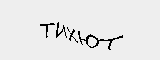И: (53, 18, 67, 40)
Т: (96, 34, 125, 52), (38, 18, 55, 39)
Х: (64, 26, 80, 47)
Ю: (76, 31, 99, 51)
